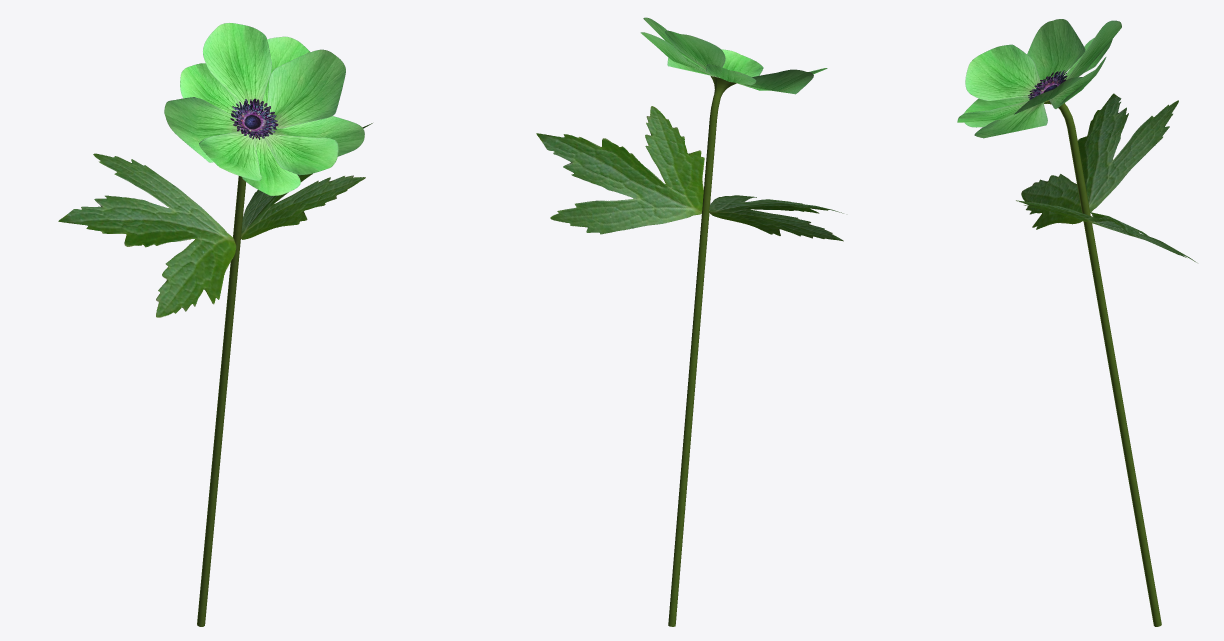
The picture shows the model from 3 angles, left to right: view 1: azimuth 30°, elevation 25°; view 2: azimuth 150°, elevation 25°; view 3: azimuth 270°, elevation 25°; orthographic projection. The views are drawn at different scales.
Parts seen in each view (by area): view 1: Cylinder; view 2: Cylinder; view 3: Cylinder.
Boxes of the visible parts, <box> form: Cylinder: <box>58,23,372,626</box>; Cylinder: <box>536,17,843,626</box>; Cylinder: <box>957,19,1196,626</box>.
Bounding box in the file's own units: 1060 × 1652 × 638.
Materials: 1 (1 with a texture image).
